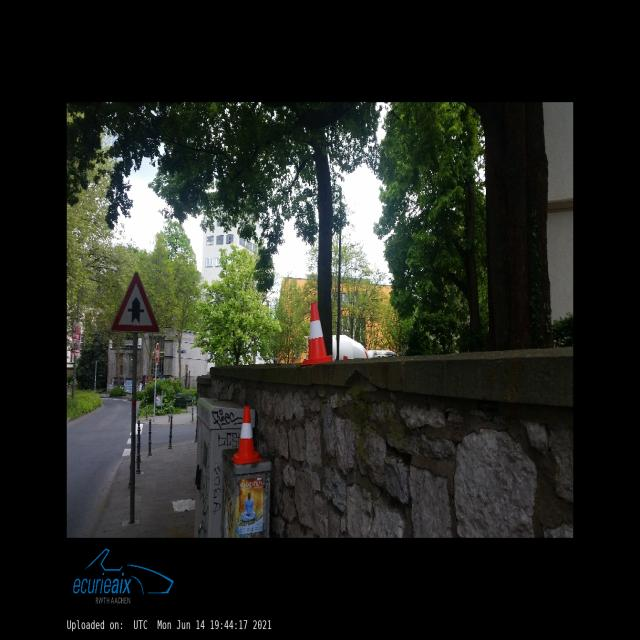orange_cone: (302, 302, 336, 364), (232, 407, 262, 465)
